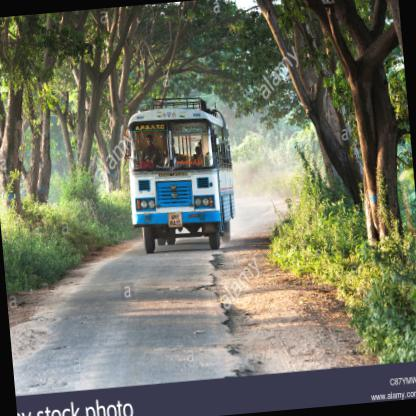bus: (48, 40, 126, 145)
